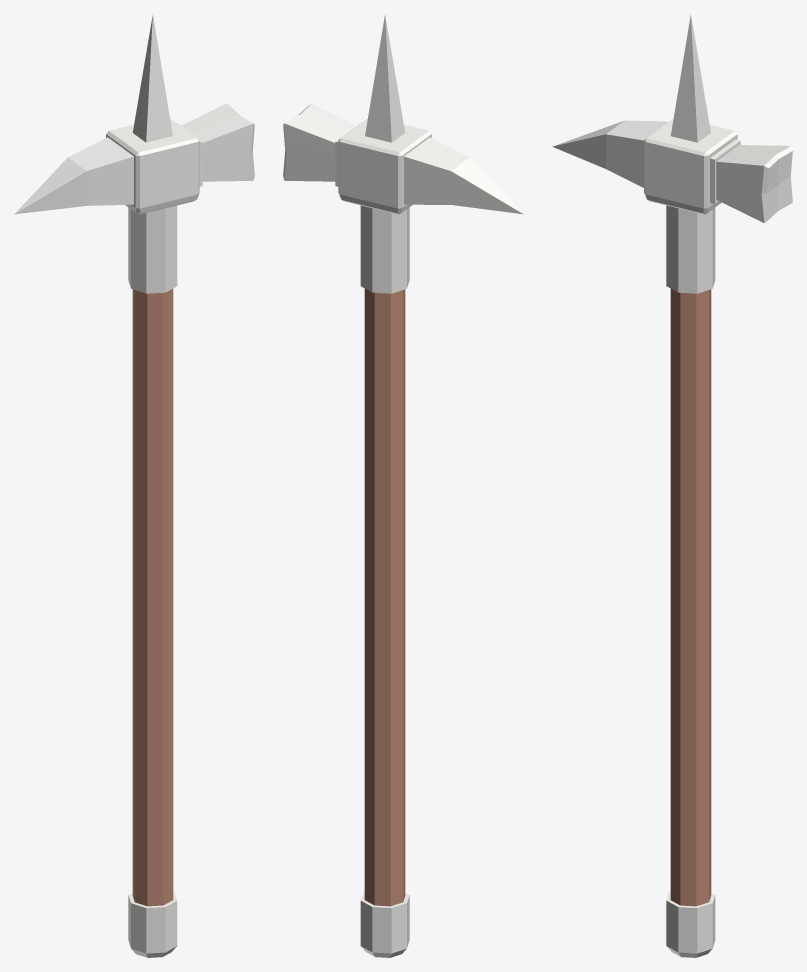
The model's file is hammer2.glb.
3 views of the same model, side by side, from view 1: azimuth 30°, elevation 25°; view 2: azimuth 150°, elevation 25°; view 3: azimuth 330°, elevation 25° (orthographic).
Visible parts, largest first — view 1: Warhammer; view 2: Warhammer; view 3: Warhammer.
Part boxes in pixels (<box>): Warhammer: <box>14,14,254,957</box>; Warhammer: <box>283,14,523,957</box>; Warhammer: <box>552,14,792,957</box>.
Size of the model in its own units: 0.554 by 2.17 by 0.1361.
